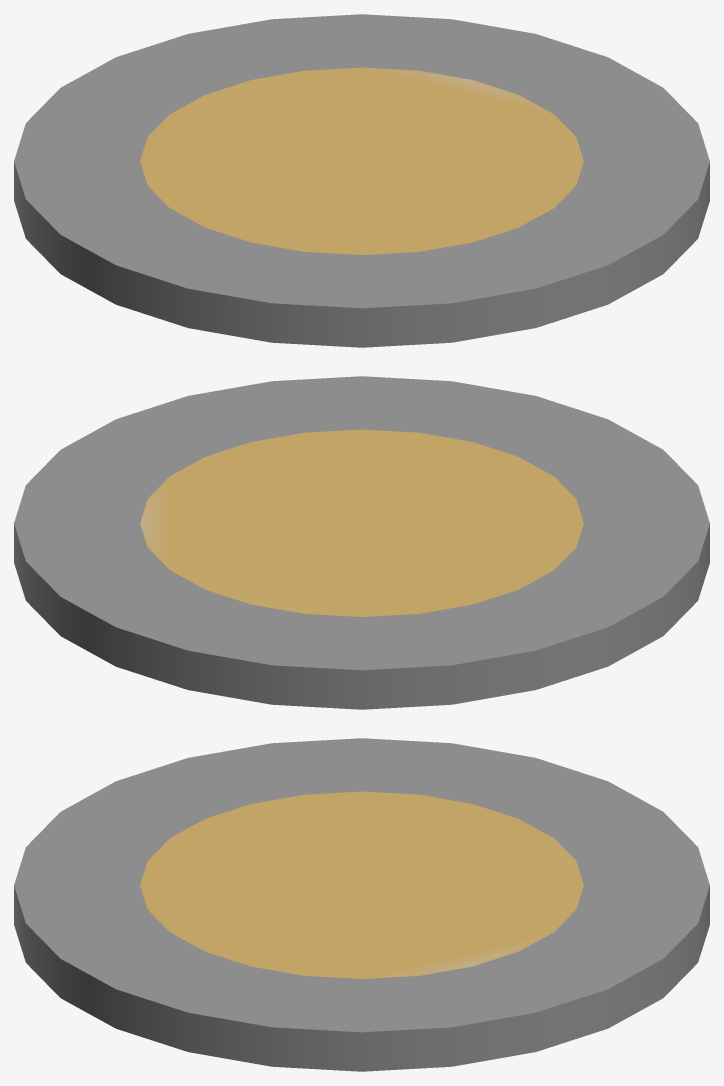
Rendered from toonie.glb.
The picture shows the model from 3 angles, top to bottom: view 1: azimuth 30°, elevation 25°; view 2: azimuth 150°, elevation 25°; view 3: azimuth 270°, elevation 25°; orthographic projection.
Parts seen in each view (by area): view 1: Cylinder; view 2: Cylinder; view 3: Cylinder.
Part boxes in pixels (<box>): Cylinder: <box>14,14,709,347</box>; Cylinder: <box>14,376,709,709</box>; Cylinder: <box>14,738,709,1071</box>.
Size of the model in its own units: 2.8 by 0.175 by 2.8.
